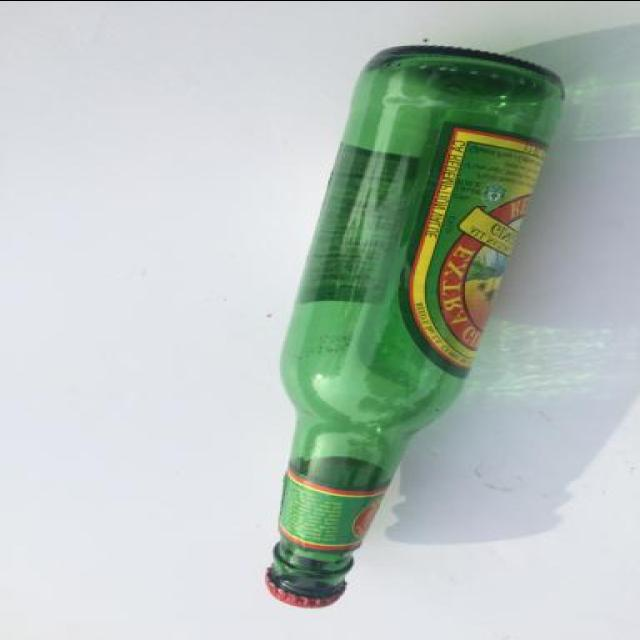glass: (268, 45, 566, 608)
